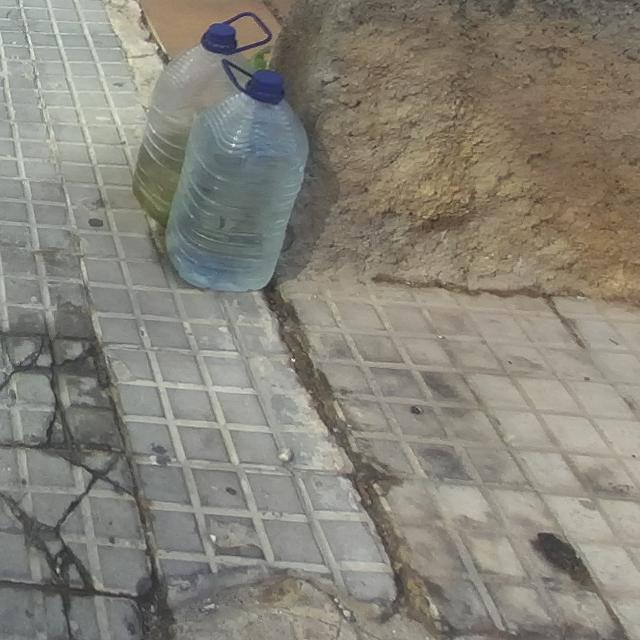calcada_quebrada: (47, 451, 134, 591), (0, 332, 99, 449), (57, 594, 75, 639)
